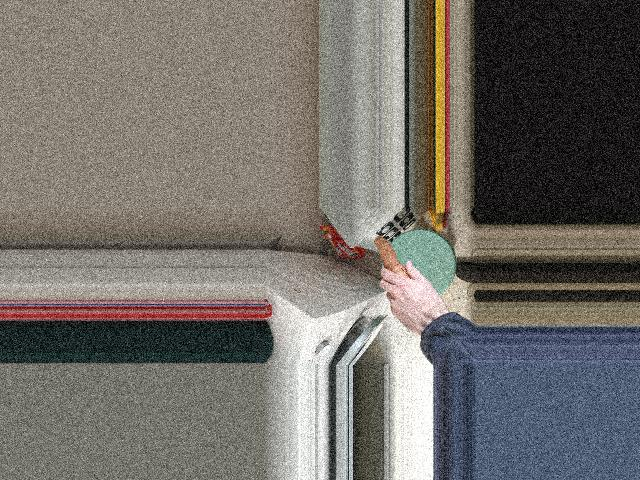sweet_potato: (373, 239, 428, 311)
